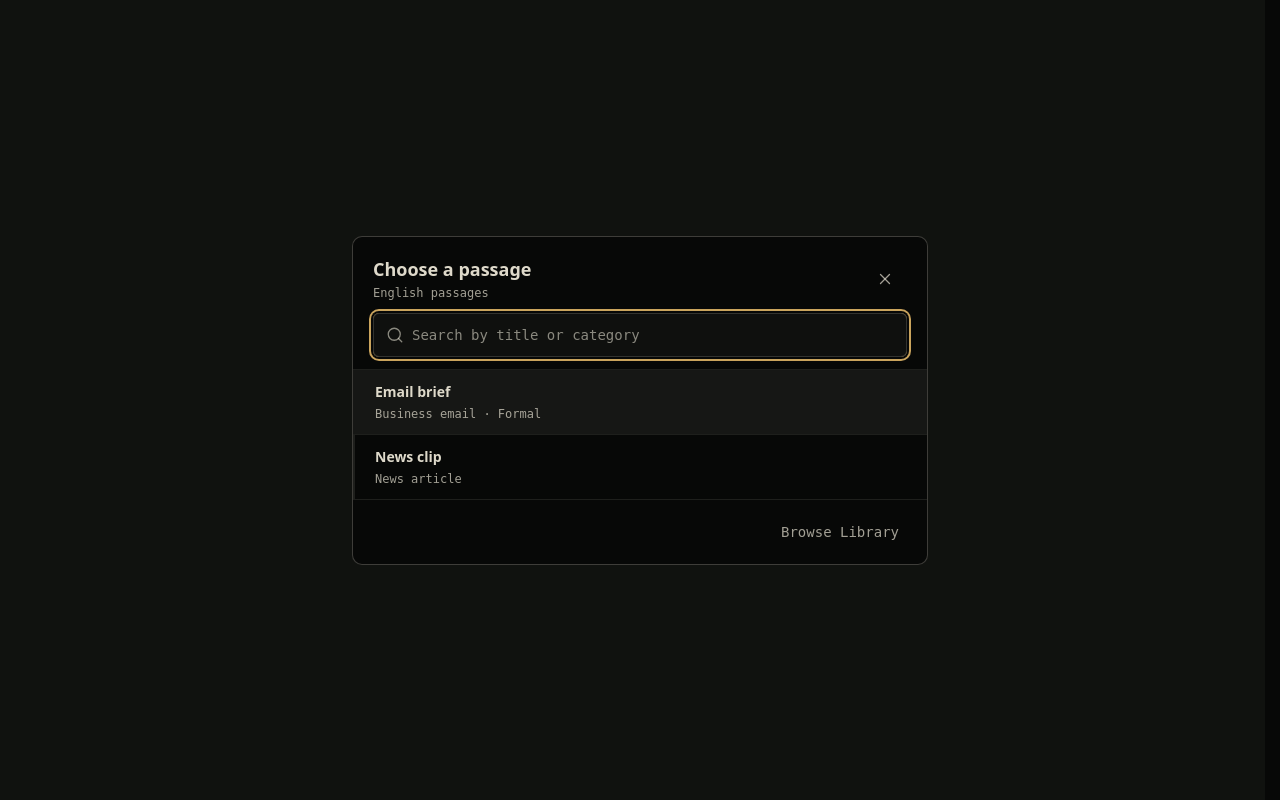
Test: PassagePicker › searches passage titles and categories
The width and height of the screenshot is (1280, 800).
Type "news" into the search field named "Search passages" at (653, 334), box [412,324,894,344]
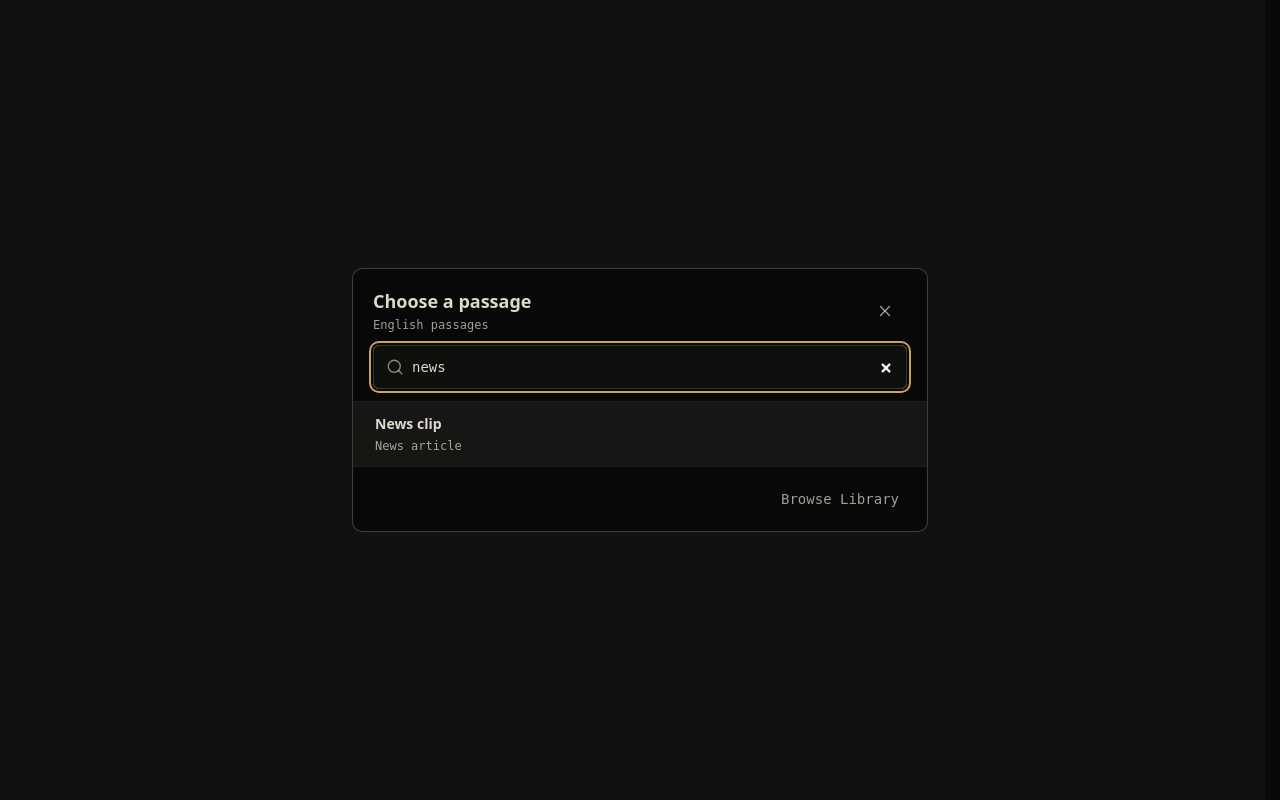
Expected: the option "News clip News article" is shown, [353,402,927,466]
Expected: the option "Email brief" is gone
Replace the text in the search field named "Search passages" with "business email" at (653, 367), box [412,357,894,377]
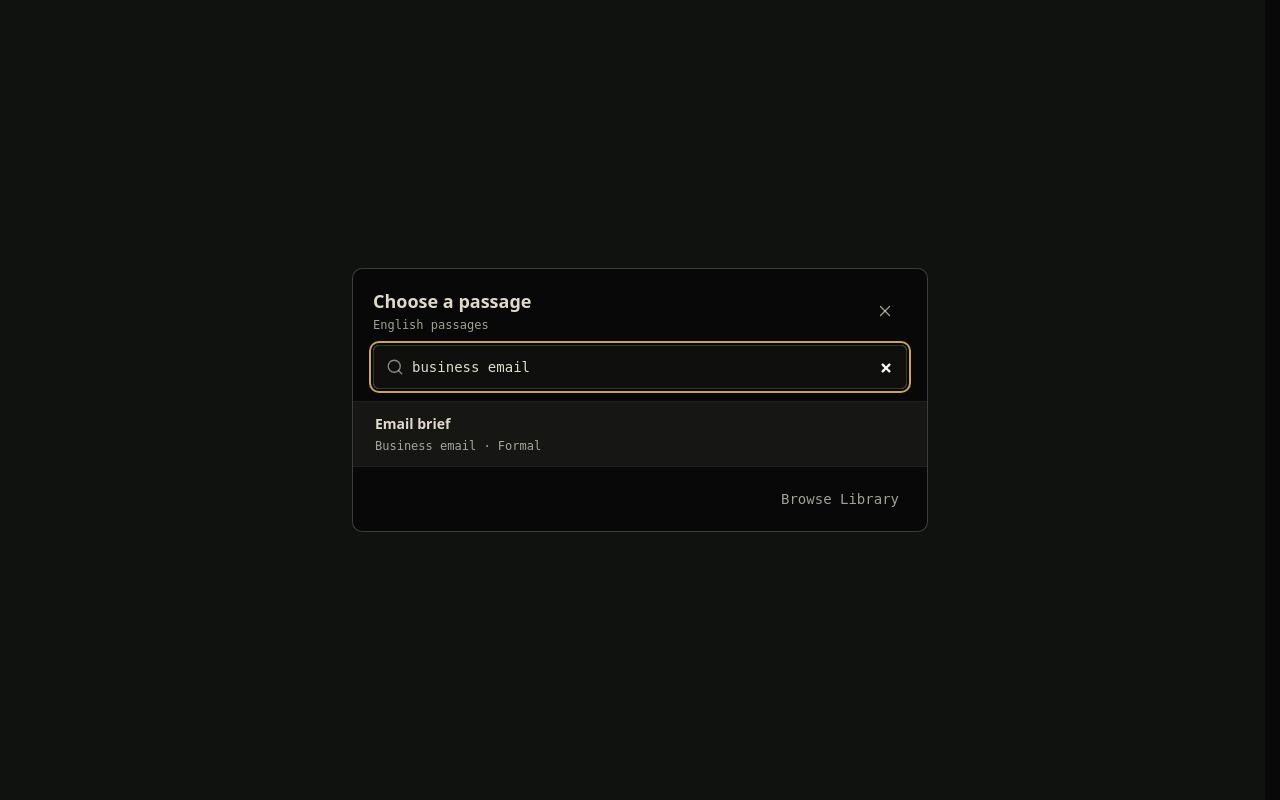
Expected: the option "Email brief Business email · Formal" is shown, [353,402,927,466]
Expected: the option "News clip" is gone
